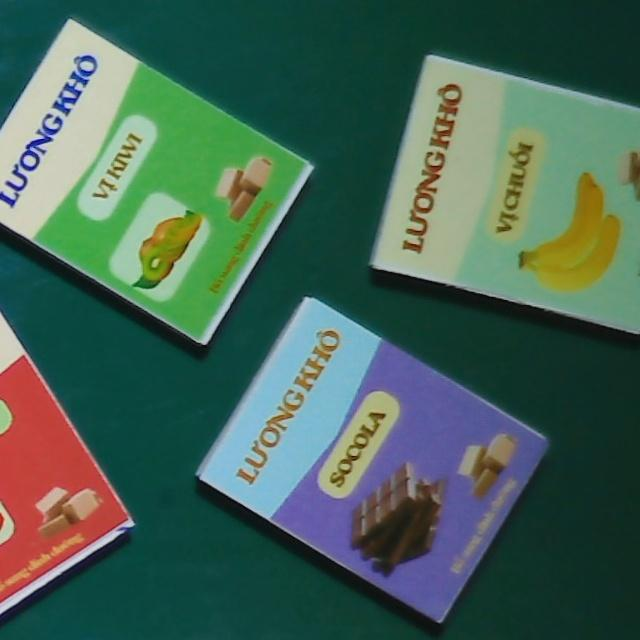dau: (0, 313, 133, 614)
kiwi: (0, 15, 313, 348)
socola: (193, 291, 553, 627)
